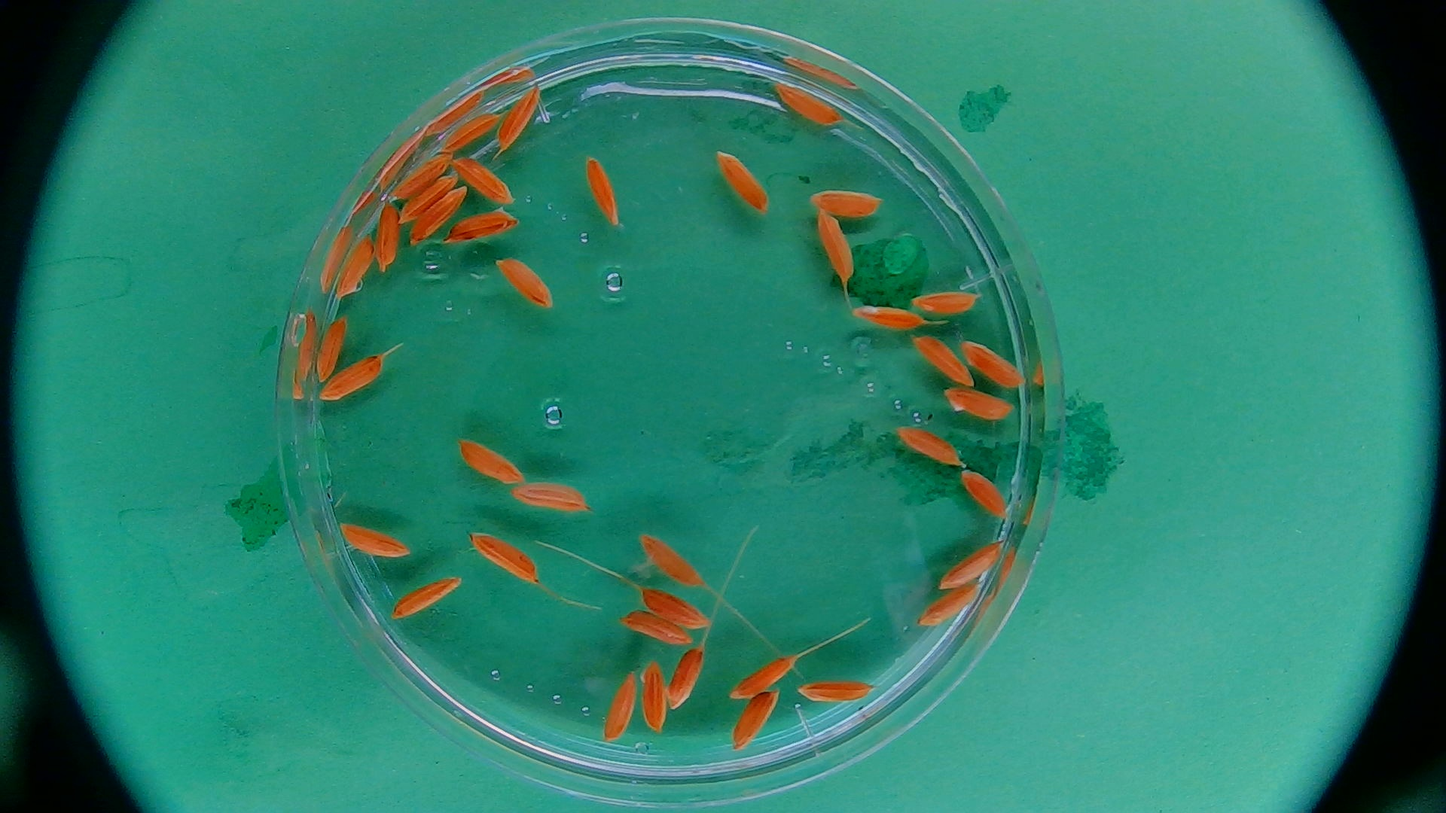no: (465, 527, 544, 589), (725, 645, 799, 704), (639, 529, 706, 590), (935, 537, 1004, 596), (490, 84, 544, 157), (913, 331, 977, 391), (390, 571, 463, 623), (493, 253, 555, 314), (957, 460, 1014, 526), (895, 416, 965, 469), (657, 640, 707, 714), (770, 81, 847, 129), (456, 435, 528, 486), (960, 338, 1025, 394), (639, 587, 715, 634), (410, 181, 468, 242), (714, 151, 770, 214), (335, 517, 413, 562), (917, 579, 987, 629), (942, 380, 1016, 427), (436, 109, 506, 158), (399, 171, 460, 227), (618, 606, 695, 650), (735, 687, 785, 754), (631, 655, 671, 738), (450, 156, 516, 206), (596, 668, 640, 741), (445, 202, 521, 243), (316, 356, 382, 403), (367, 201, 410, 273), (813, 209, 855, 282), (392, 153, 454, 202), (577, 156, 619, 228), (332, 233, 374, 305), (310, 315, 352, 385), (810, 184, 883, 218), (795, 676, 875, 706), (511, 483, 585, 512), (911, 287, 981, 317), (856, 303, 929, 330)
